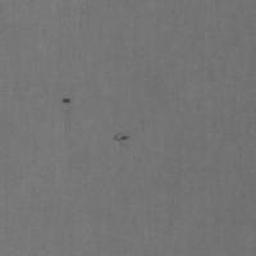Inclusion: (114, 133, 131, 142), (61, 97, 72, 105)
